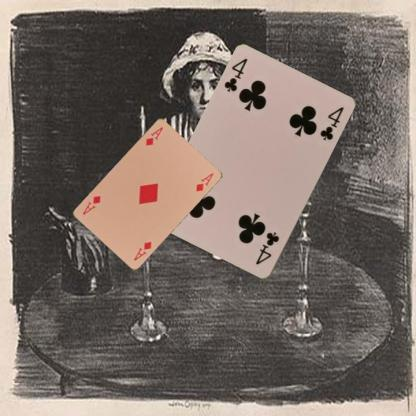4c: (221, 56, 249, 94), (253, 230, 281, 266)
Ad: (131, 238, 153, 262), (143, 124, 164, 147)
